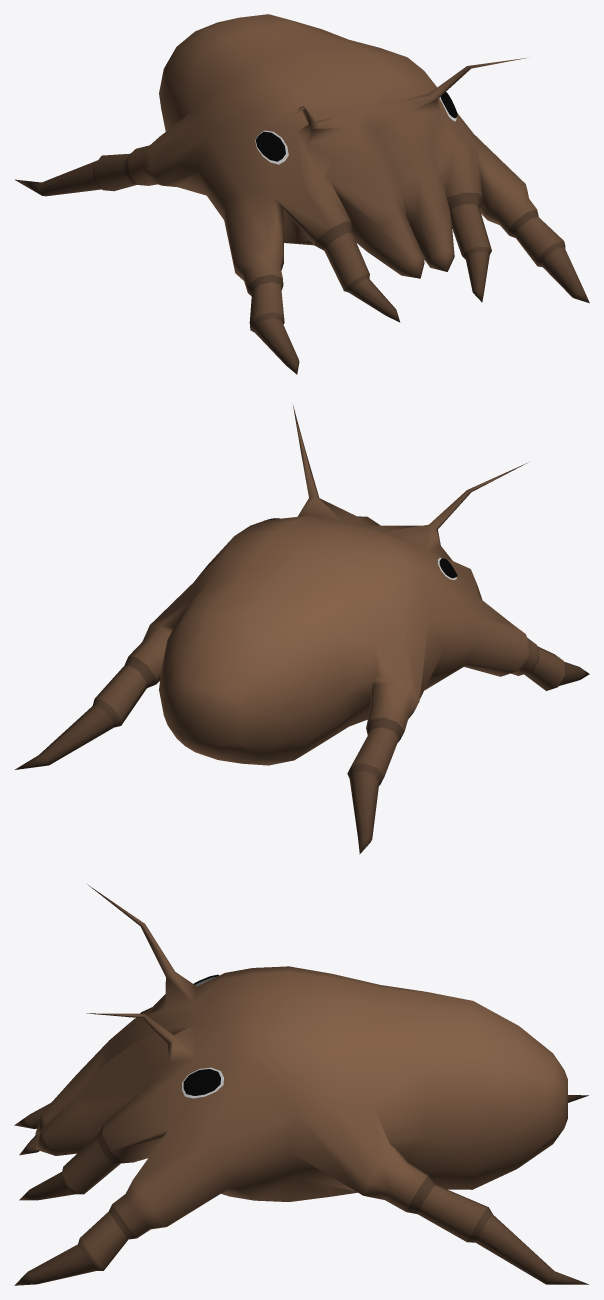
The model's file is microscopic-tiny-animals-mite_v1.glb.
The picture shows the model from 3 angles, top to bottom: view 1: azimuth 30°, elevation 25°; view 2: azimuth 150°, elevation 25°; view 3: azimuth 270°, elevation 25°; orthographic projection. The views are drawn at different scales.
Visible parts, largest first — view 1: Mite; view 2: Mite; view 3: Mite.
Boxes of the visible parts, x1=… form: Mite: x1=15, y1=14, x2=589, y2=374; Mite: x1=15, y1=405, x2=589, y2=854; Mite: x1=14, y1=884, x2=589, y2=1285.
Size of the model in its own units: 0.3112 by 0.1975 by 0.4.
